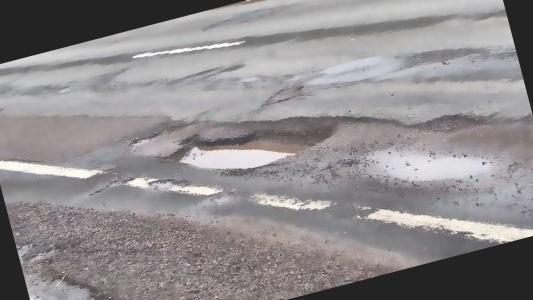pothole: (159, 96, 342, 193), (414, 104, 484, 144), (125, 130, 159, 149)
